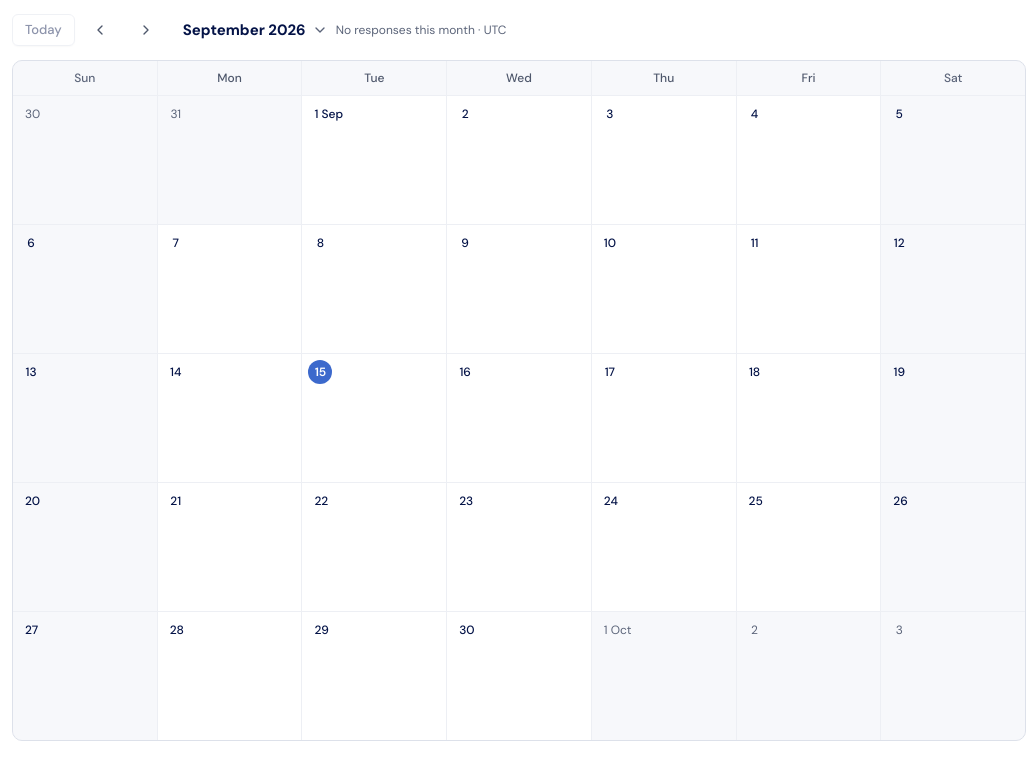
Test: today › the Today button is off on the current month, and takes you back from anywhere
The image size is (1036, 780).
Expected: the button "Today" is disabled, x1=12 y1=14 x2=75 y2=46
Click the button named "Next month" at {"x": 146, "y": 30}, box x1=125 y1=14 x2=167 y2=46
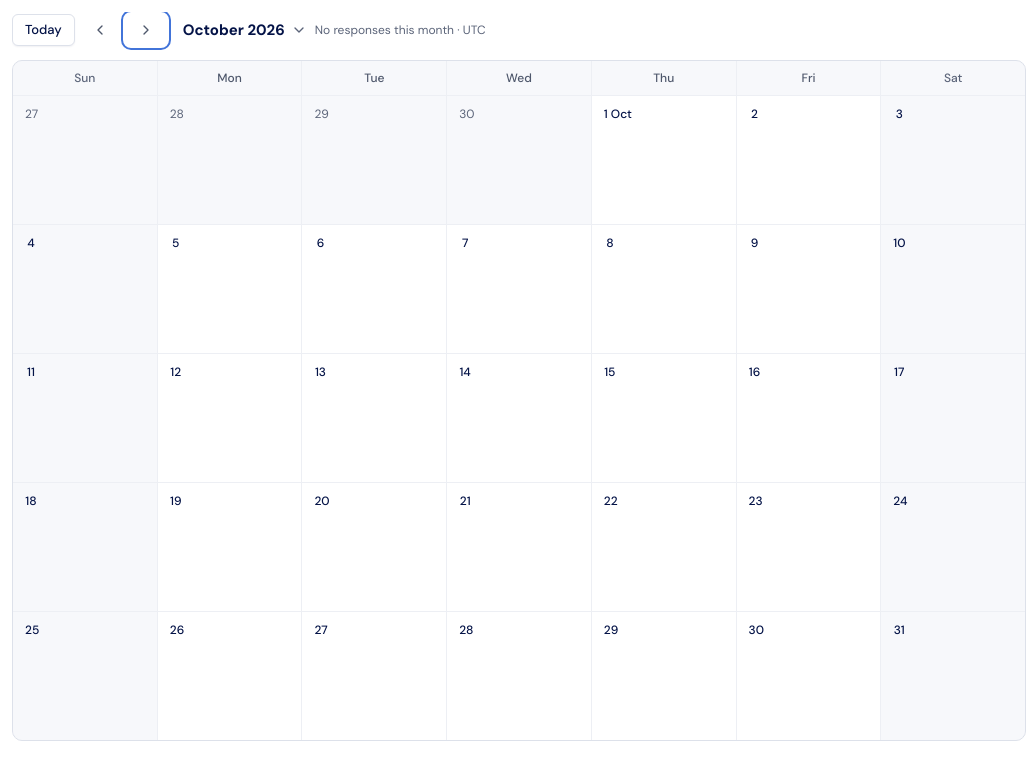
Expected: the heading "October 2026" is shown, x1=183 y1=17 x2=307 y2=43
Expected: the button "Today" is enabled
Click the button "Today" at {"x": 43, "y": 30}, box x1=12 y1=14 x2=75 y2=46
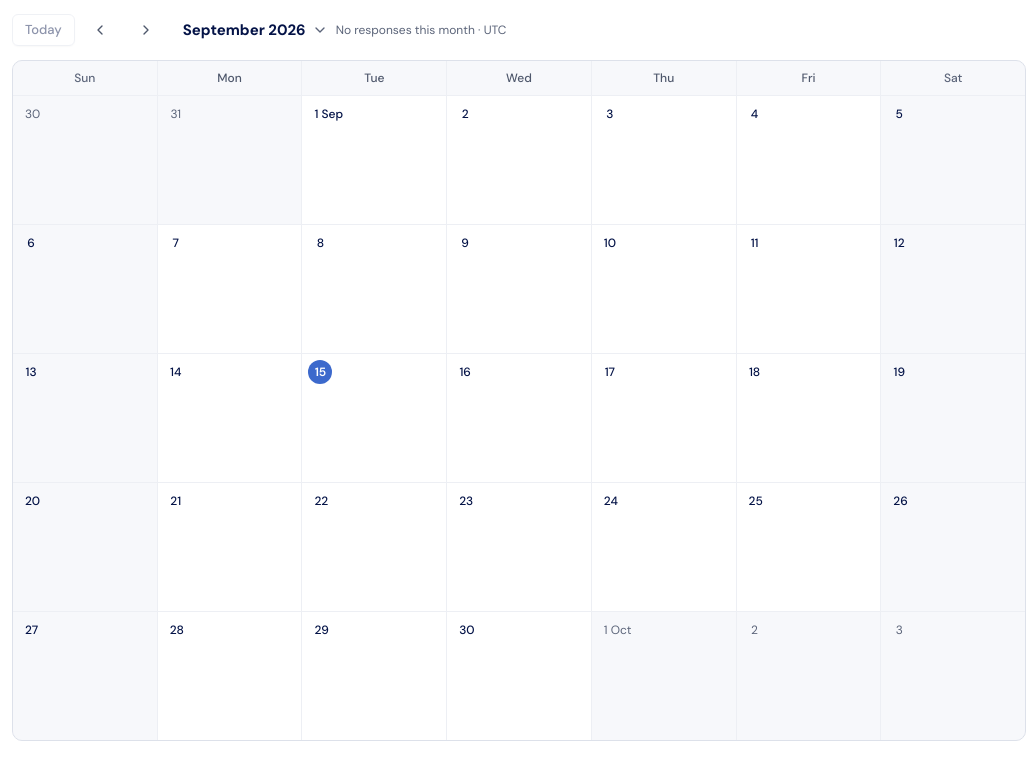
Expected: the heading "September 2026" is shown, x1=183 y1=17 x2=328 y2=43
Expected: the button "Today" is disabled, x1=12 y1=14 x2=75 y2=46
